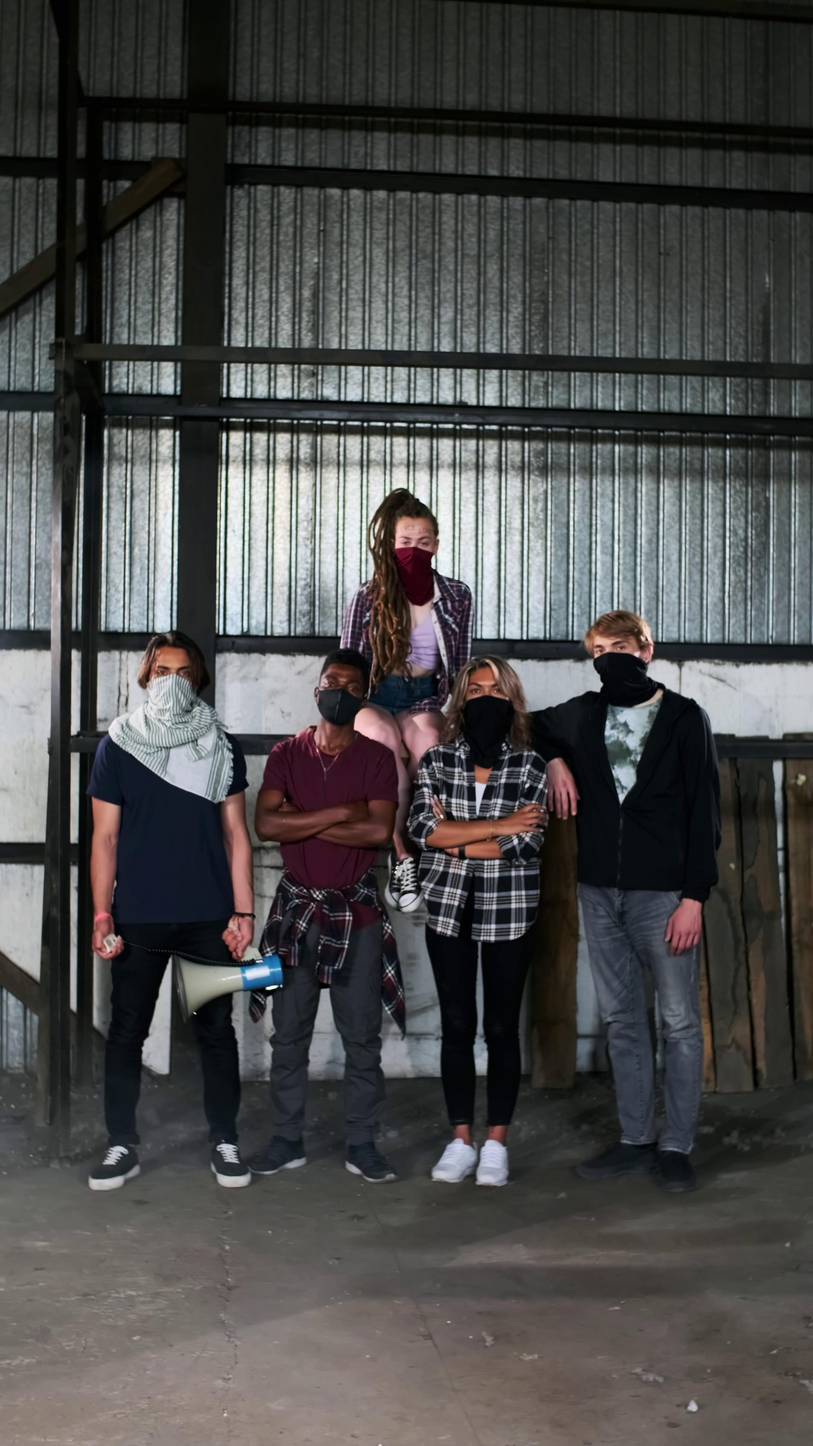mask: (461, 695, 515, 769), (594, 652, 658, 709), (144, 674, 199, 731), (392, 546, 436, 606), (314, 686, 364, 726)
person: (525, 608, 723, 1193), (82, 630, 258, 1190), (245, 648, 408, 1185), (405, 654, 550, 1189), (336, 487, 474, 916)
